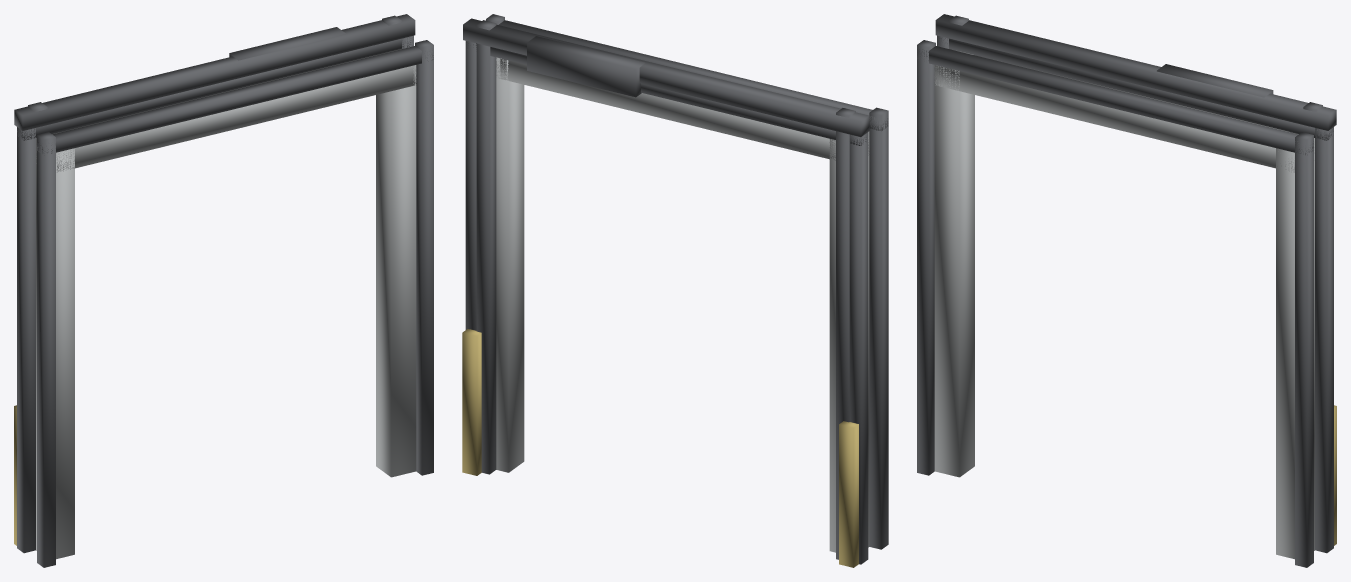
File: bay_opening_service_bay_w240_h280_d20.glb
3 views of the same model, side by side, from view 1: azimuth 30°, elevation 25°; view 2: azimuth 150°, elevation 25°; view 3: azimuth 330°, elevation 25° (orthographic).
Parts seen in each view (by area): view 1: world; view 2: world; view 3: world.
Part boxes in pixels (x1,y1,x2,y2): world: [14, 14, 433, 567]; world: [462, 14, 888, 567]; world: [917, 14, 1336, 567].
Size of the model in its own units: 2.98 by 3.19 by 0.422.
